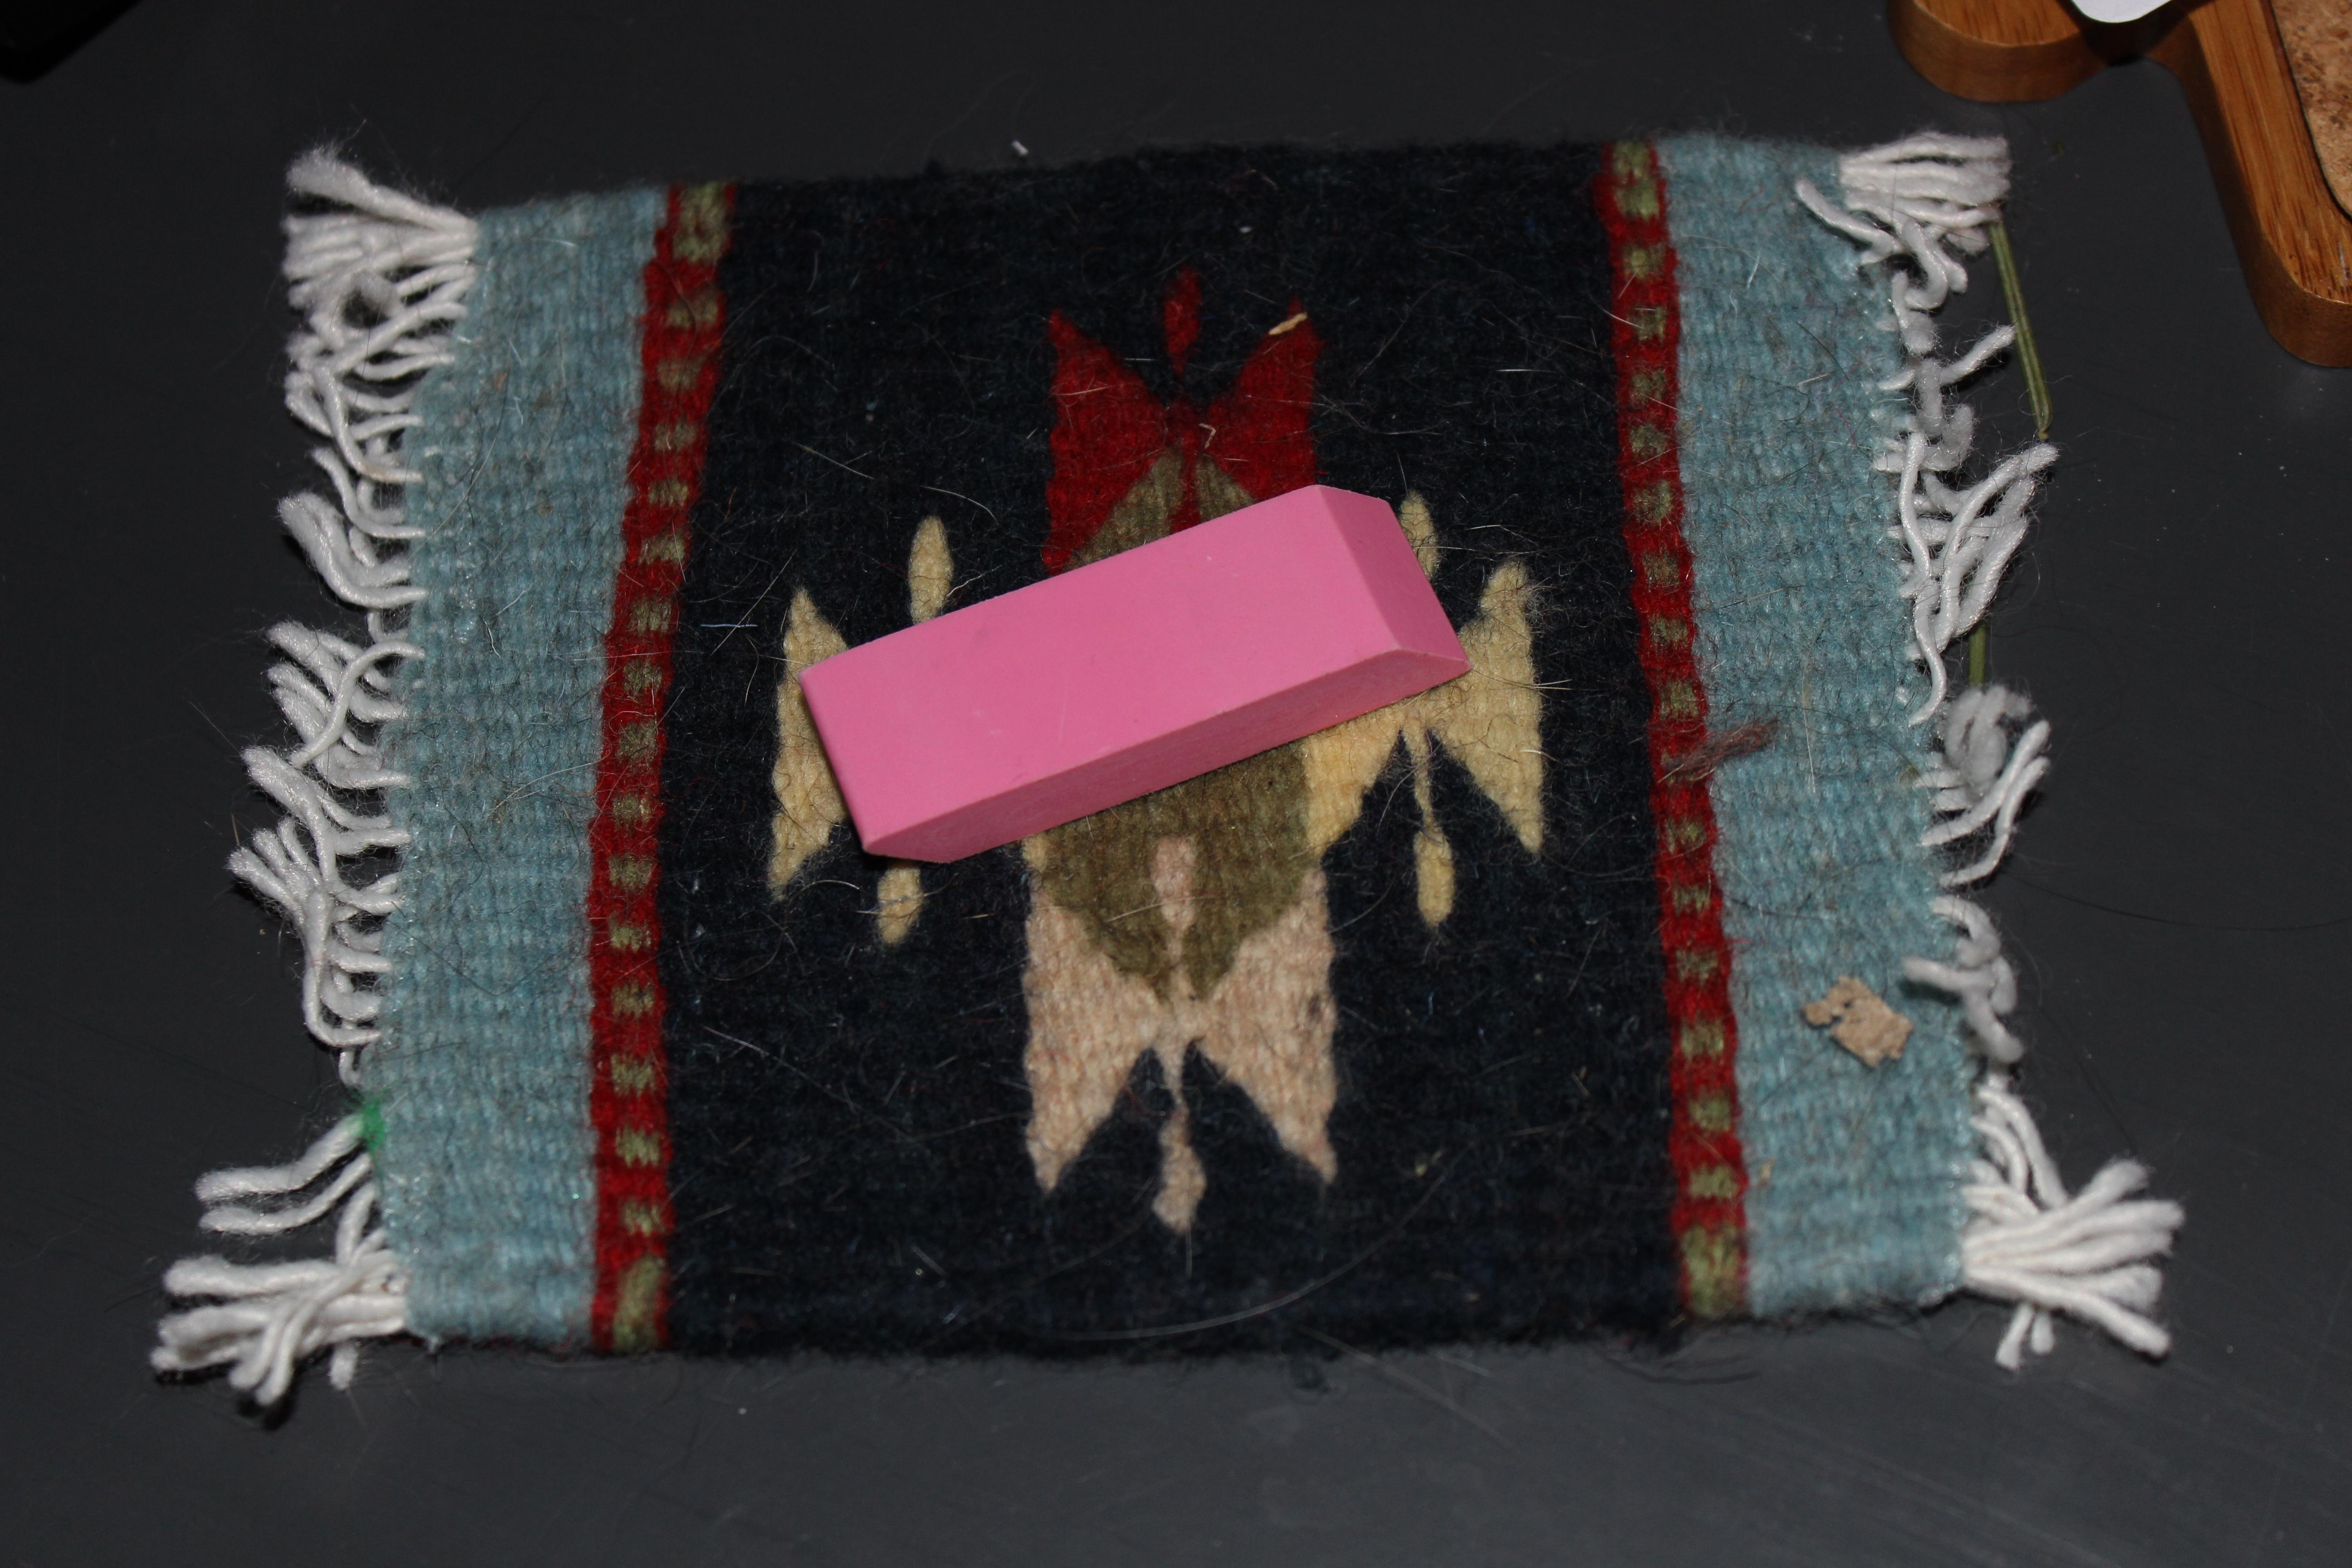pinkEraser: (753, 460, 1501, 884)
